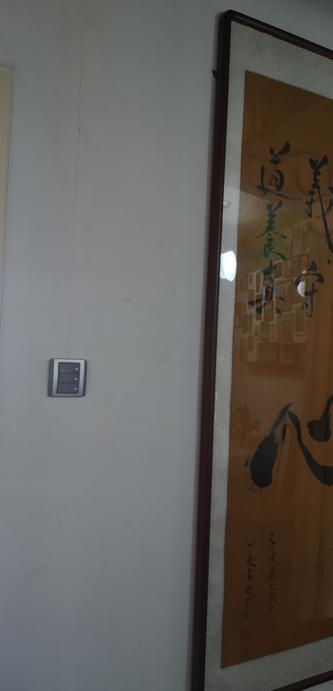switch: (55, 361, 82, 371), (58, 377, 83, 382), (58, 388, 81, 393)
